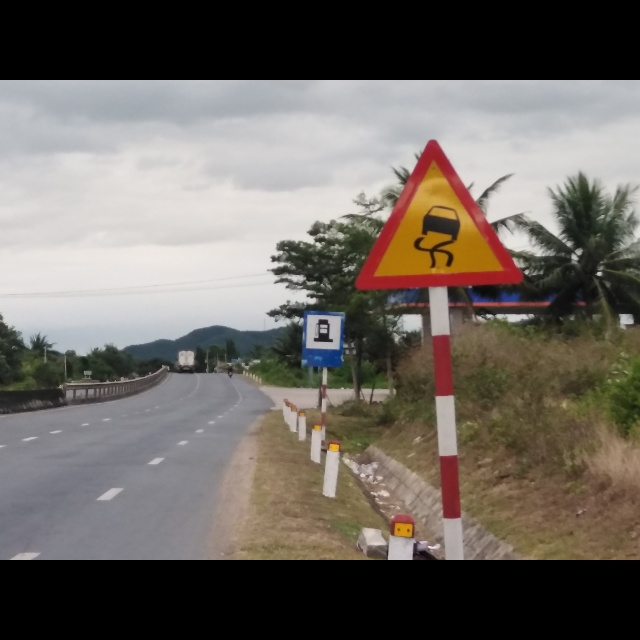Đường trơn trượt: (357, 139, 527, 292)
